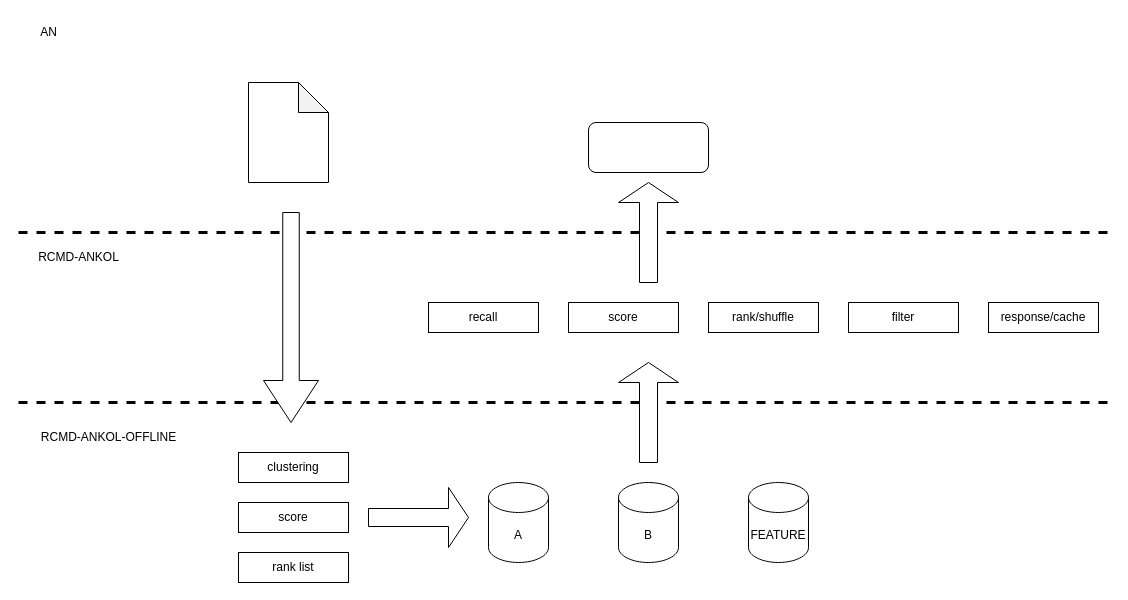
Some shapes in this 1128 by 600 pixel diagram are drawn without their labels. Here are the shapes that lost their labels. From the top down, the centre of each, then its label:
At [288,132]: "seller/kol hdfs/hive".
At [648,147]: "seller".
